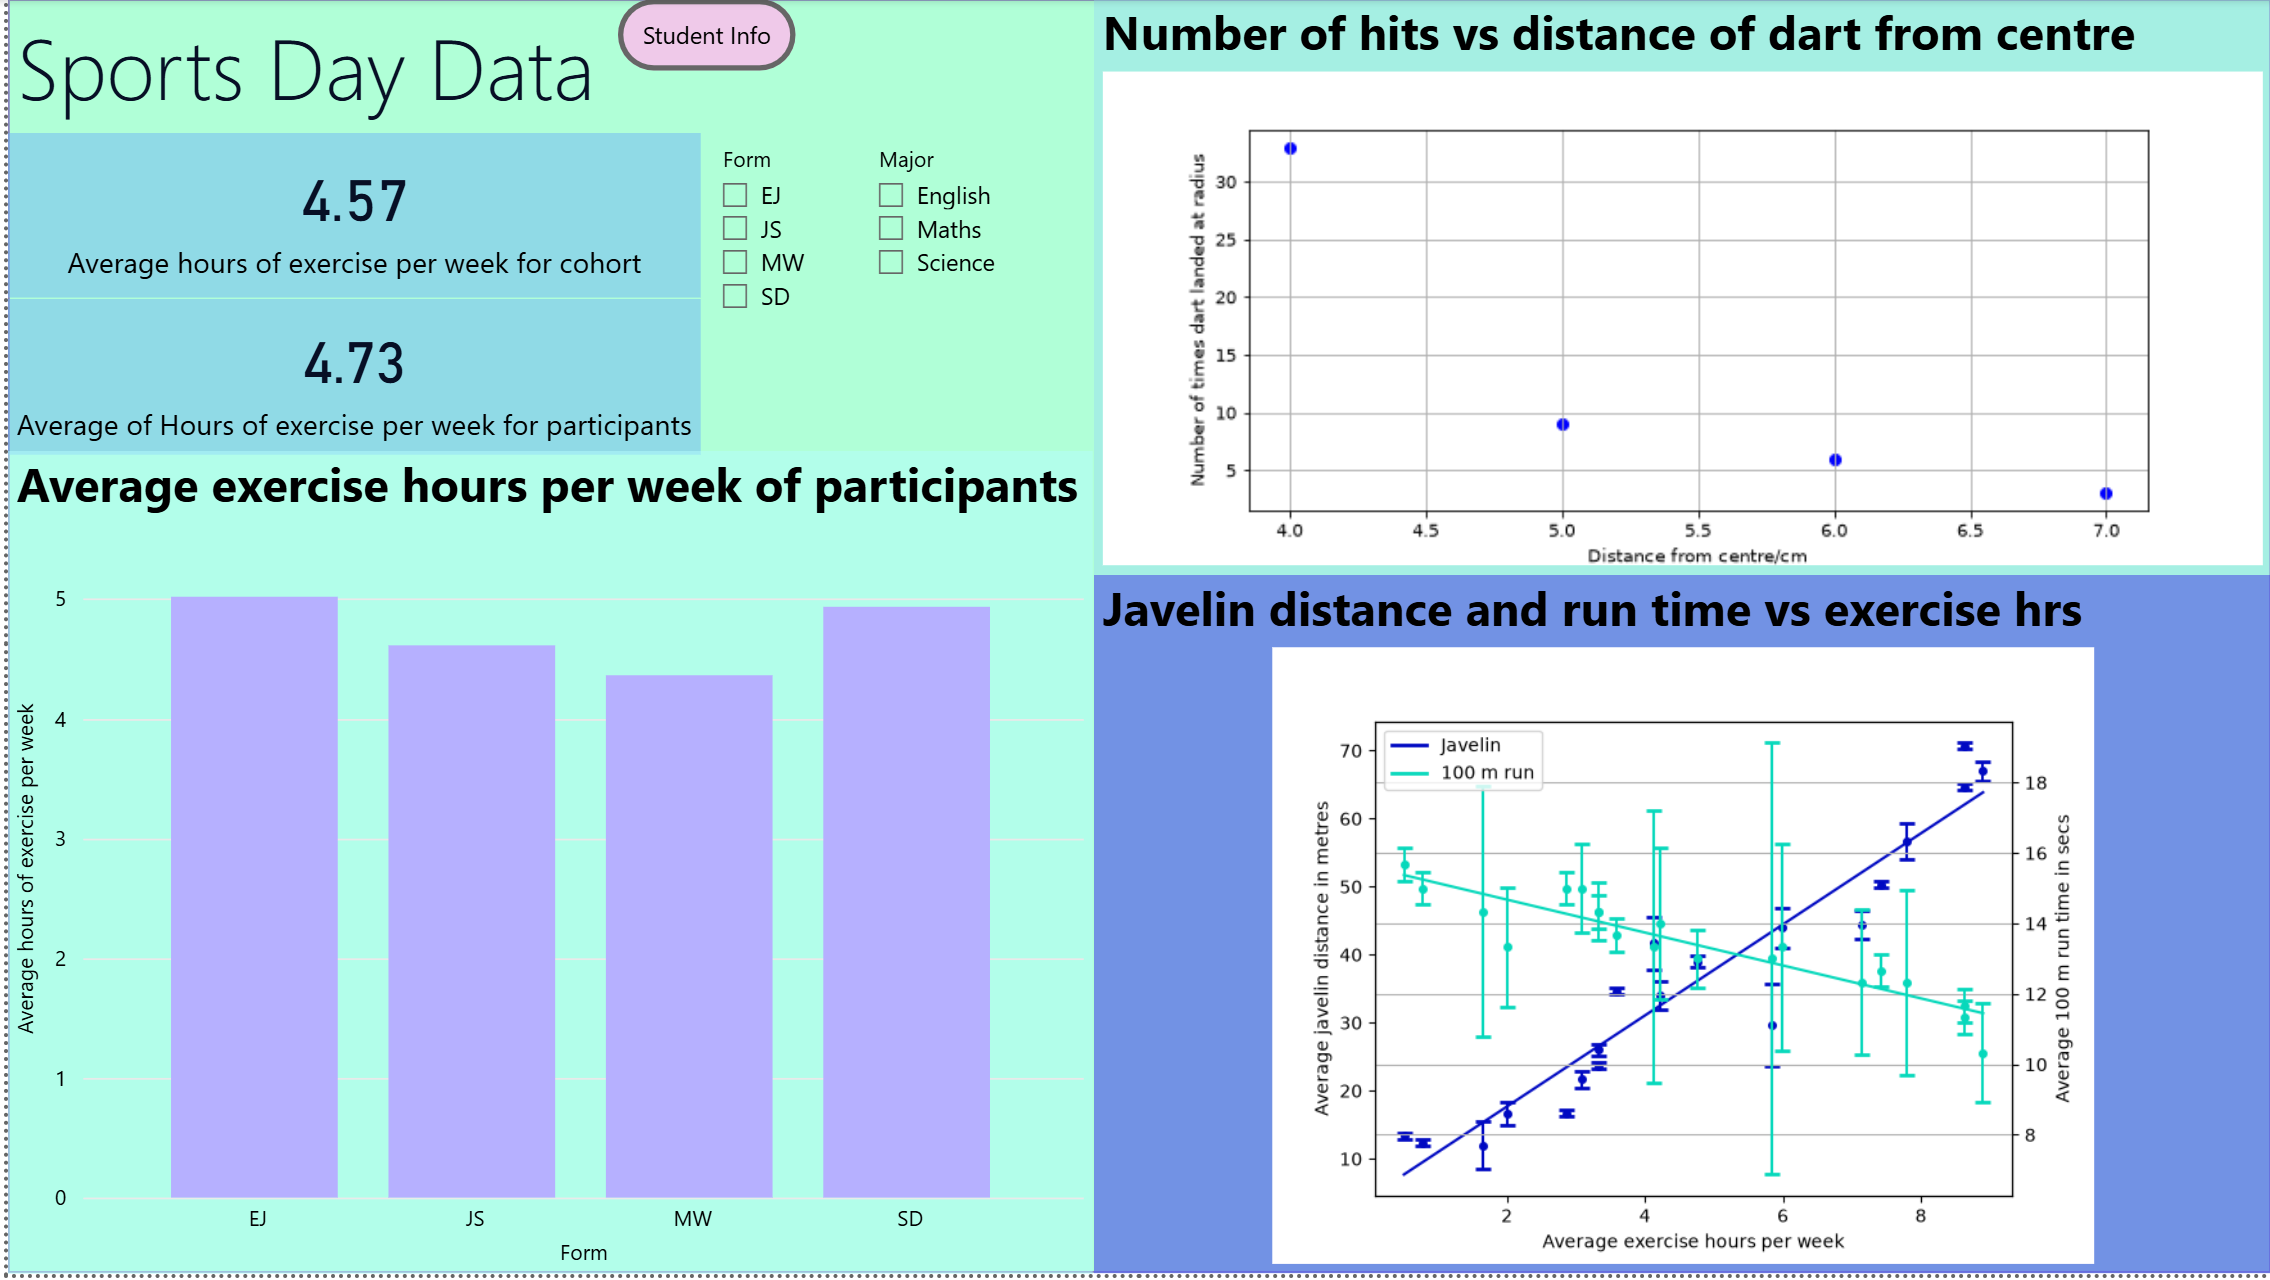

The dashboard page shown, as its layout file describes it:
{"tool":"powerbi","page":{"name":"SportsDay","canvas":[1280,720],"ordinal":1},"visuals":[{"type":"shape","box":[0,0,1278.3,719.3],"z":0},{"type":"textbox","box":[0,0,345,75.9],"z":1000},{"type":"card","fields":{"Values":["Avg(FactWholeYear10.Hours of exercise each week)"]},"box":[0,75.9,391.6,93.2],"z":2000},{"type":"card","fields":{"Values":["Avg(DimOrFactSportsDay.Hours of exercise each week)"]},"box":[0,169.1,391.6,88],"z":3000},{"type":"clusteredColumnChart","title":"Average exercise hours per week of participants","fields":{"Category":["DimOrFactSportsDay.Form","FactWholeYear10.Major","DimOrFactSportsDay.Student Forename"],"Y":["Avg(DimOrFactSportsDay.Hours of exercise each week)"]},"box":[0,255.6,613.2,464.4],"z":4000},{"type":"pythonVisual","title":"Javelin distance and run time vs exercise hrs","fields":{"Values":["DimOrFactSportsDay.Hours of exercise each week","DimOrFactSportsDay.Average Javelin/m","DimOrFactSportsDay.STD Javelin/m","DimOrFactSportsDay.Average 100m run time/s","DimOrFactSportsDay.STD 100m run time/s"]},"box":[613.3,325.3,665.1,394],"z":5000},{"type":"pythonVisual","title":"Number of hits vs distance of dart from centre","fields":{"Values":["DimOrFactSportsDay.Distance of dart from centre 1/cm","DimOrFactSportsDay.Distance of dart from centre 2/cm","DimOrFactSportsDay.Distance of dart from centre 3/cm"]},"box":[613.3,0,665.1,325.3],"z":6000},{"type":"slicer","fields":{"Values":["FactWholeYear10.Form"]},"box":[391.1,76.7,88.2,178.3],"z":7000},{"type":"slicer","fields":{"Values":["FactWholeYear10.Major"]},"box":[479.3,76.7,134.2,178.3],"z":8000},{"type":"actionButton","box":[344.6,0,100.3,40.4],"z":9000}]}

Visuals, with their boxes in screenshot pixels (x1, y1, x2, y2), scaled from the page's 1280x720 canvas onto the 2270x1280 screenshot:
shape: 0 0 2267 1279
textbox: 0 0 612 135
card - Avg(FactWholeYear10.Hours of exercise each week): 0 135 694 301
card - Avg(DimOrFactSportsDay.Hours of exercise each week): 0 301 694 457
"Average exercise hours per week of participants" clusteredColumnChart: 0 454 1087 1279
"Javelin distance and run time vs exercise hrs" pythonVisual: 1088 578 2267 1279
"Number of hits vs distance of dart from centre" pythonVisual: 1088 0 2267 578
slicer - FactWholeYear10.Form: 694 136 850 453
slicer - FactWholeYear10.Major: 850 136 1088 453
actionButton: 611 0 789 72
